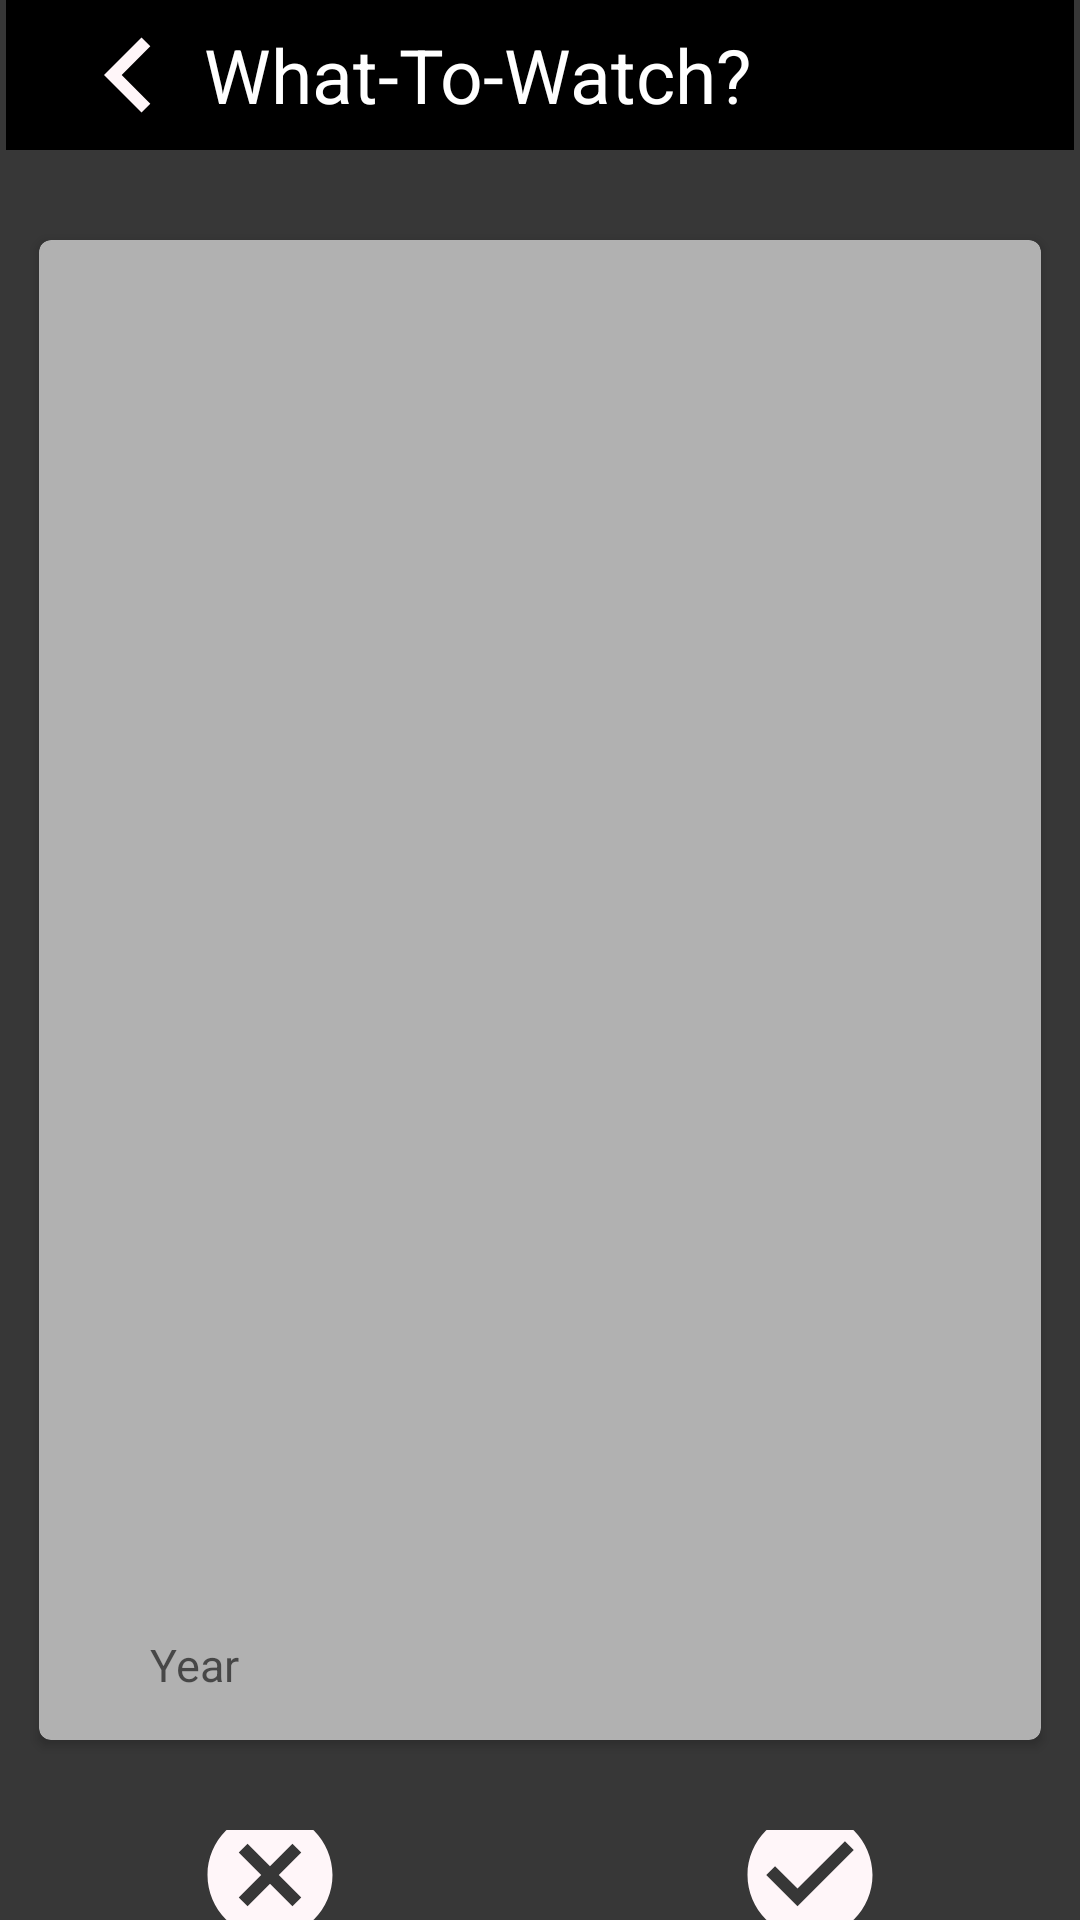

Locate icon controls on the screen. Image size 1080x1920, boxes as (x1, y1, x2, y2).
back arrow: (104, 37, 150, 113)
